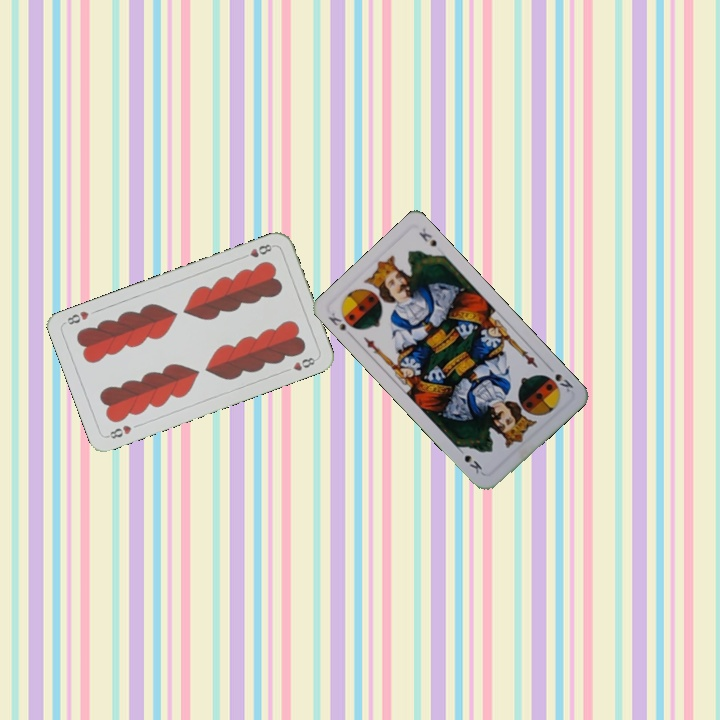H8: (238, 240, 277, 261), (103, 421, 134, 441)
SK: (324, 308, 359, 340), (551, 370, 576, 395)
